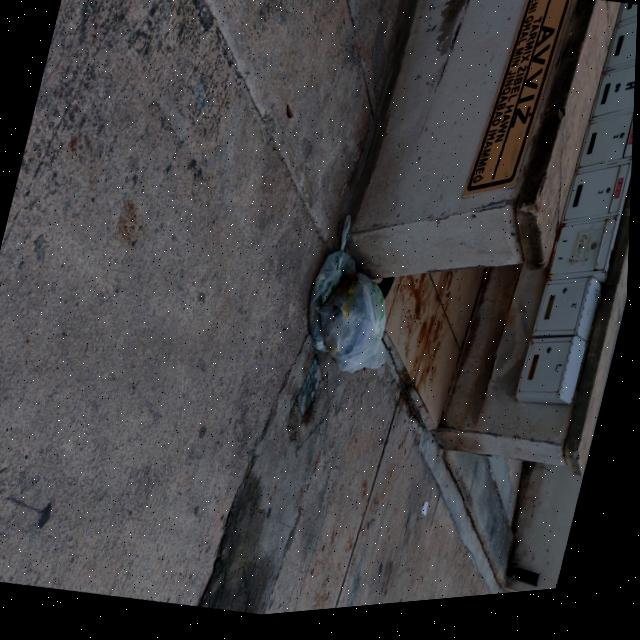Organic Waste -White Bag-: (303, 266, 410, 399), (297, 217, 370, 365)
